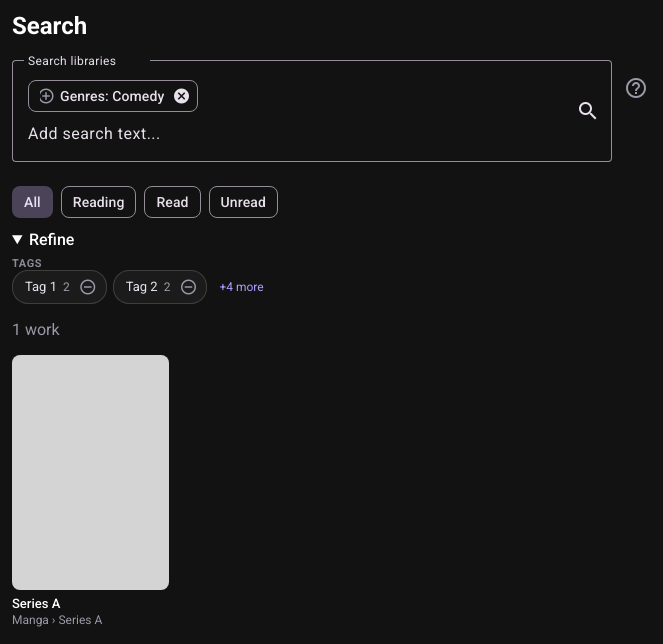
Scenario: SearchComponent tag filters and work cards (1.45.0) › 1.50.0: a new search closes an opened bucket, and an answer to the old search is dropped
The width and height of the screenshot is (663, 644).
What coordinates should you click on to do the following:
click the button with test id "refine-more" showing "+4 more"
I would click on:
 (242, 287)
Its box is [213,271,270,303].
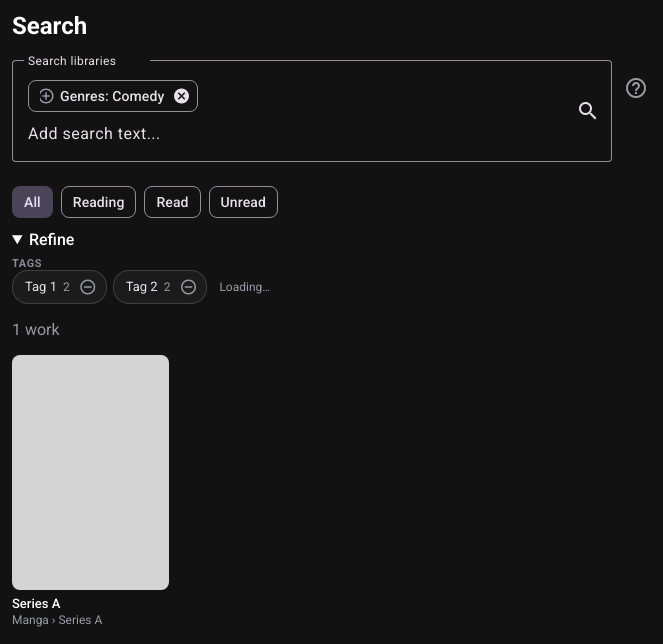
Now the button with test id "refine-more" showing "Loading…" is disabled, box [213,271,276,303]
